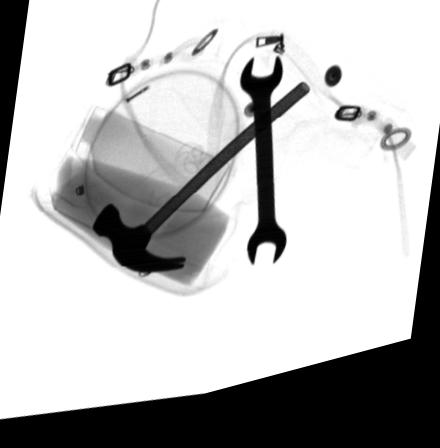Hammer: (91, 96, 309, 280)
Wrench: (239, 68, 286, 279)
